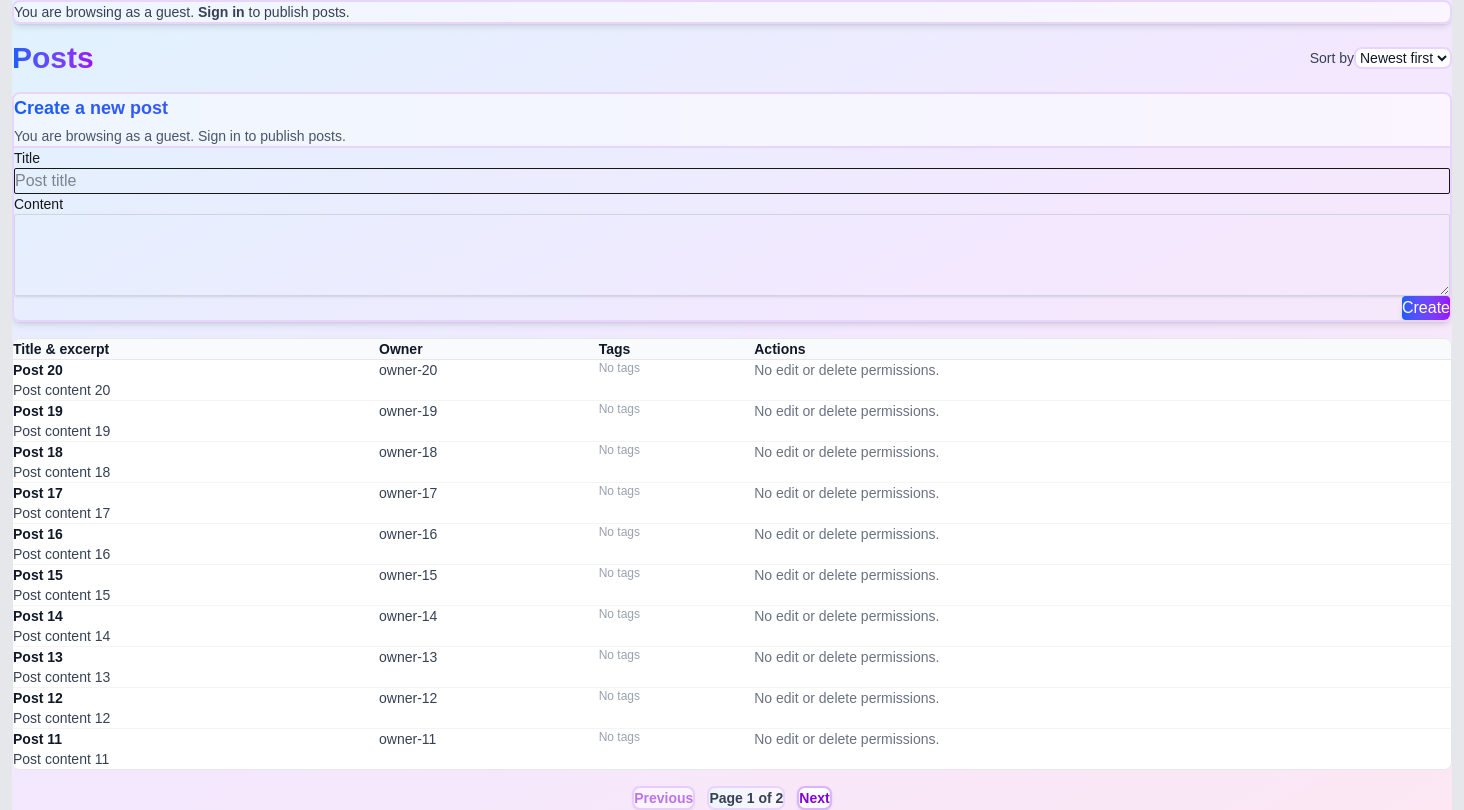
Test: Posts Pagination Integration › navigates between pages with URL updates
Expected: the heading "Post 20" is shown, [13,362,63,378]
Click the button "Next" at [815, 798], box [797,786,832,809]
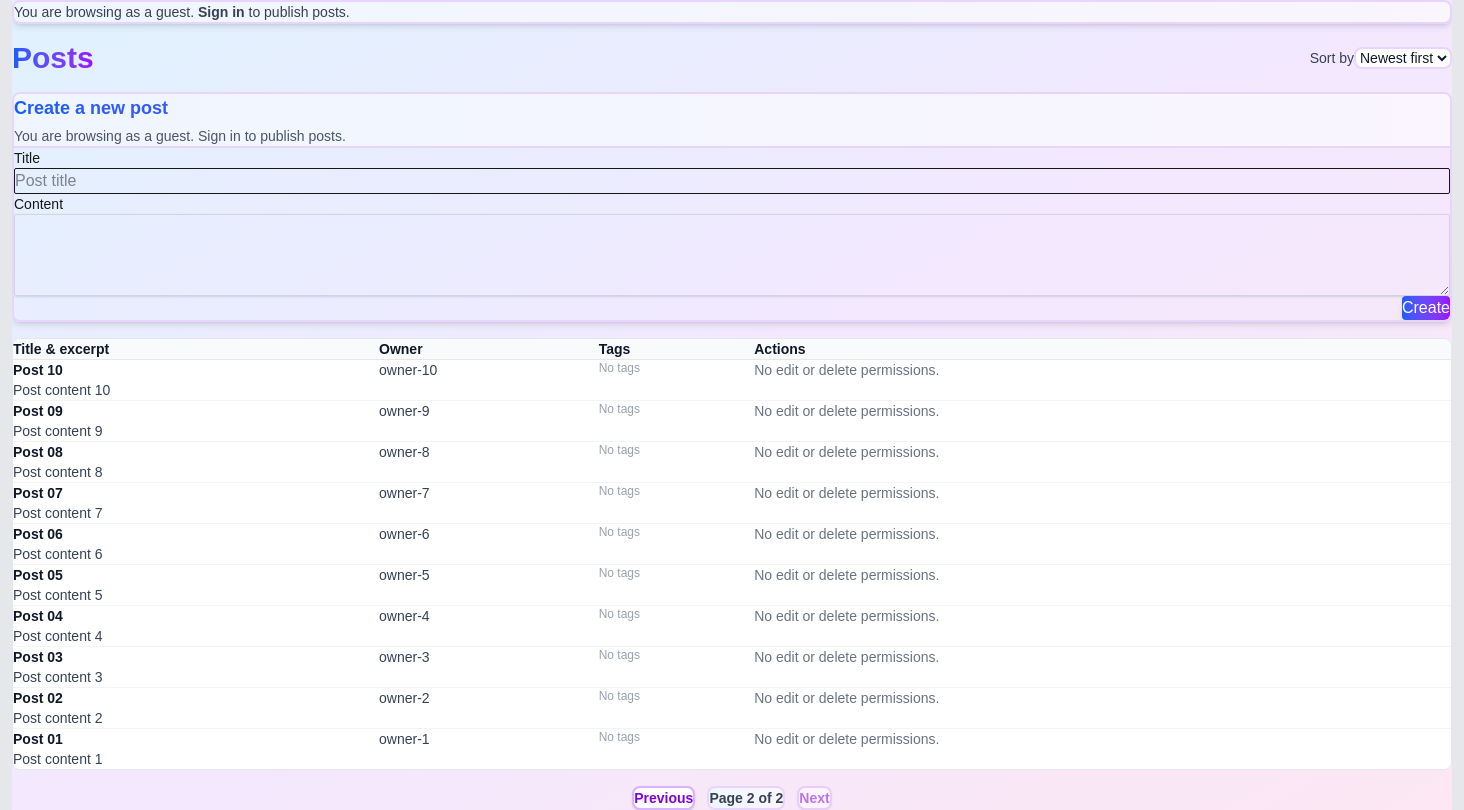
Click the button "Previous" at [664, 798], box [632,786,695,809]
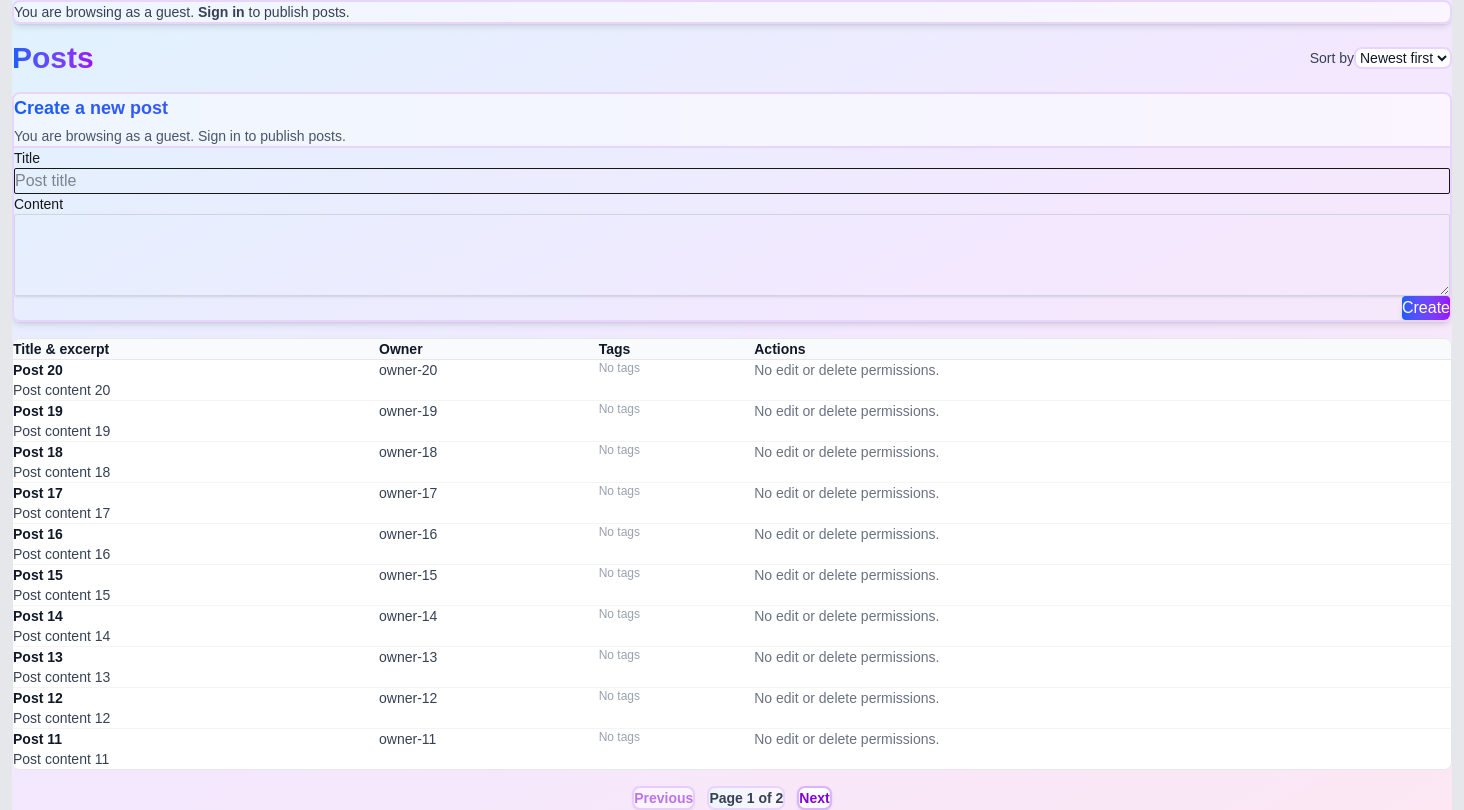
Result: the heading "Post 20" is shown at [13,362,63,378]
